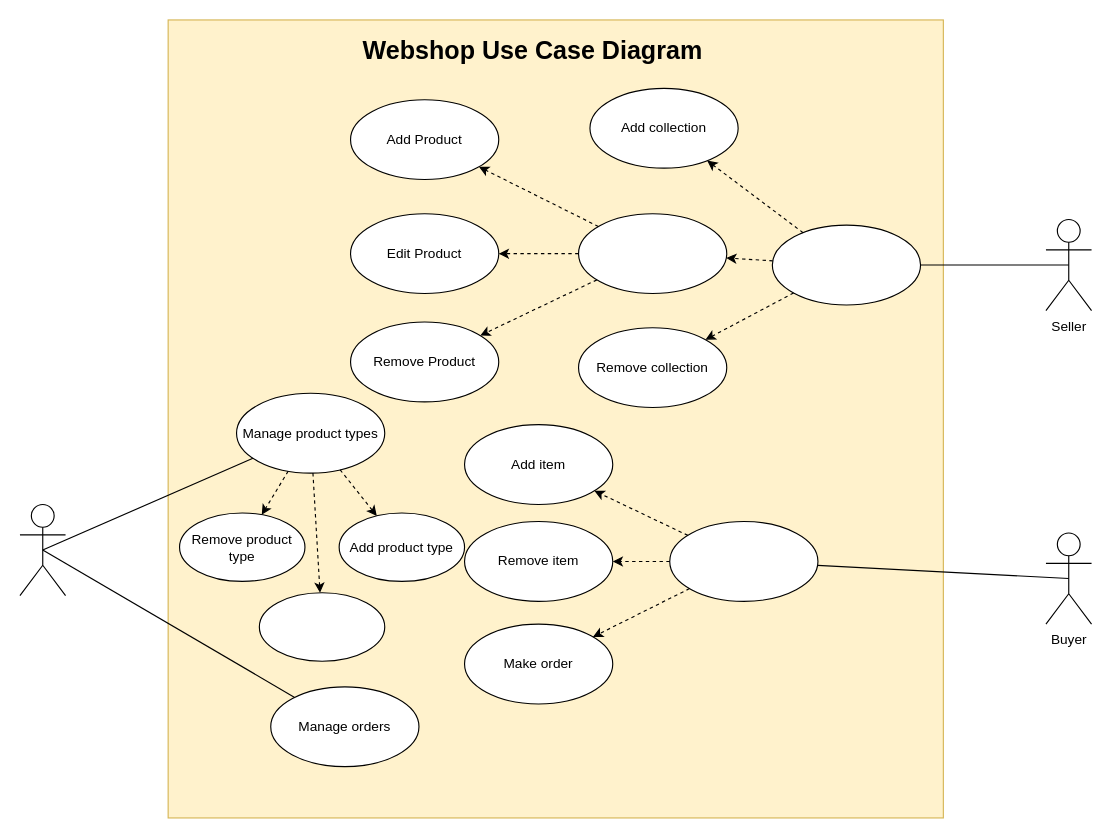
This 1112x838 diagram has some shape labels left out. The shapes that lost their labels are listed below. From the top down, each one's box as (x1, y1, x2, y2) in pixels, then its label:
(577, 213, 727, 294): Edit collection
(771, 224, 921, 305): Manage collections
(19, 503, 66, 596): Admin
(669, 520, 818, 601): Manage cart
(258, 592, 385, 661): Edit product type
